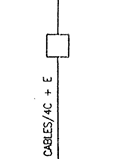Cable Termination Box: (40, 27, 82, 68)
